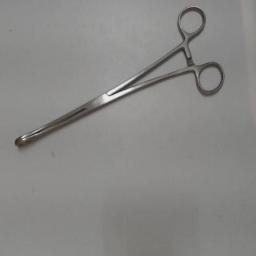Sponge Forceps: (8, 2, 228, 156)
